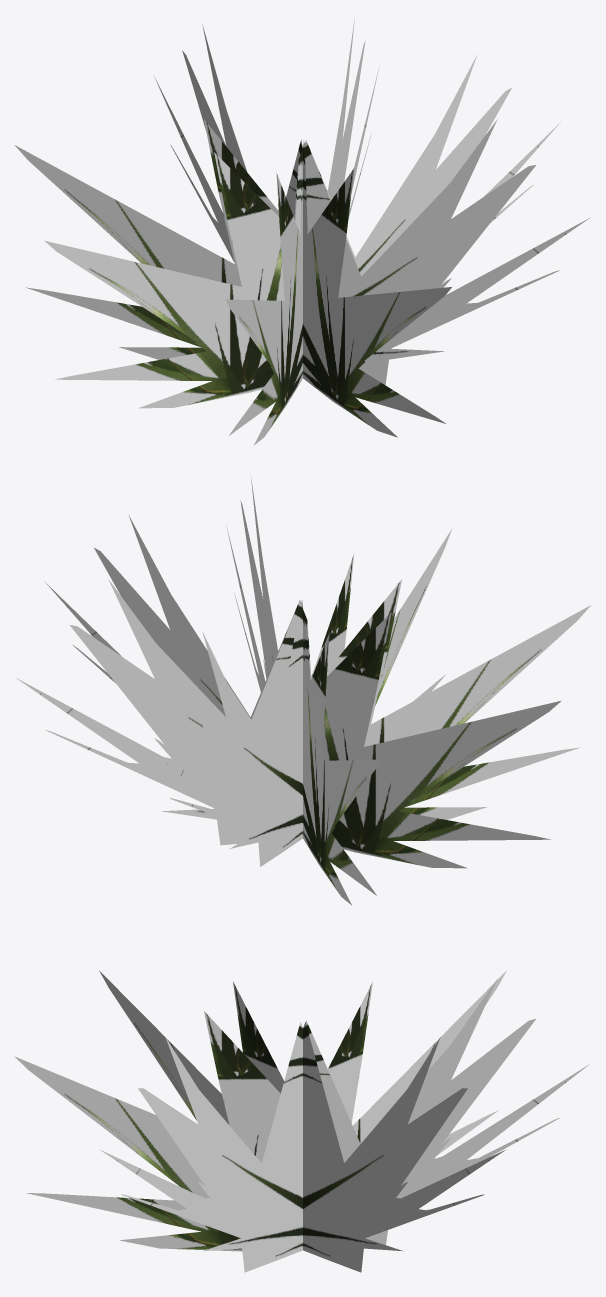
File: grass2.obj
The picture shows the model from 3 angles, top to bottom: view 1: azimuth 30°, elevation 25°; view 2: azimuth 150°, elevation 25°; view 3: azimuth 270°, elevation 25°; orthographic projection. The views are drawn at different scales.
Visible parts, largest first — view 1: Mesh2 Group3 Group2 grasses1 Model, Mesh4 Group6 Group5 grasses1 Model, Mesh1 Group1 grasses1 Model, Mesh5 Group7 Group5 grasses1 Model; view 2: Mesh5 Group7 Group5 grasses1 Model, Mesh2 Group3 Group2 grasses1 Model, Mesh1 Group1 grasses1 Model, Mesh4 Group6 Group5 grasses1 Model; view 3: Mesh1 Group1 grasses1 Model, Mesh4 Group6 Group5 grasses1 Model, Mesh5 Group7 Group5 grasses1 Model.
Boxes of the visible parts, <box> form: Mesh2 Group3 Group2 grasses1 Model: <box>44,55,561,408</box>; Mesh4 Group6 Group5 grasses1 Model: <box>14,119,590,385</box>; Mesh1 Group1 grasses1 Model: <box>154,24,451,437</box>; Mesh5 Group7 Group5 grasses1 Model: <box>225,17,379,445</box>; Mesh5 Group7 Group5 grasses1 Model: <box>15,579,591,845</box>; Mesh2 Group3 Group2 grasses1 Model: <box>44,515,561,868</box>; Mesh1 Group1 grasses1 Model: <box>154,528,452,866</box>; Mesh4 Group6 Group5 grasses1 Model: <box>226,477,380,905</box>; Mesh1 Group1 grasses1 Model: <box>14,979,590,1251</box>; Mesh4 Group6 Group5 grasses1 Model: <box>100,970,506,1272</box>; Mesh5 Group7 Group5 grasses1 Model: <box>99,970,505,1272</box>.
Bounding box in the file's own units: 23.6 × 12.33 × 23.6.
Materials: 1 (1 with a texture image).
